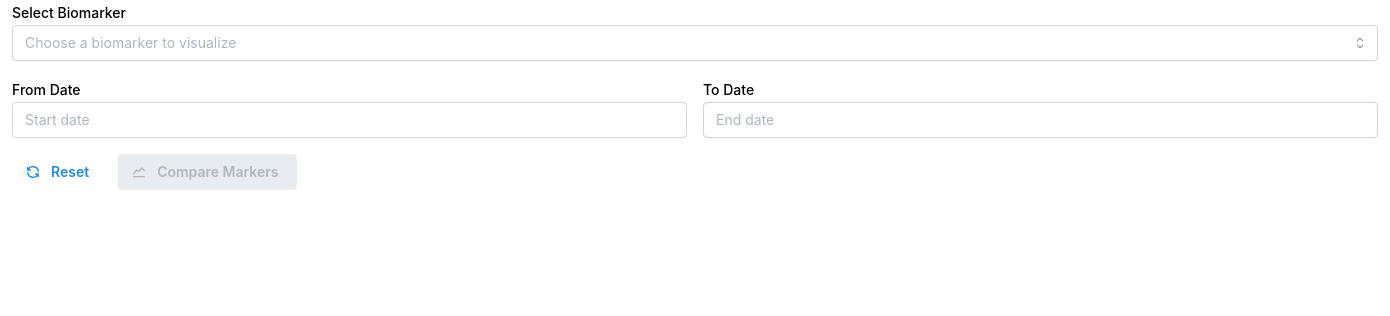
Test: TrendChartControls › Biomarker selection › shows data point count in biomarker label
The width and height of the screenshot is (1390, 316).
Click the field with placeholder "Choose a biomarker to visualize": (695, 43) [12,25,1378,61]
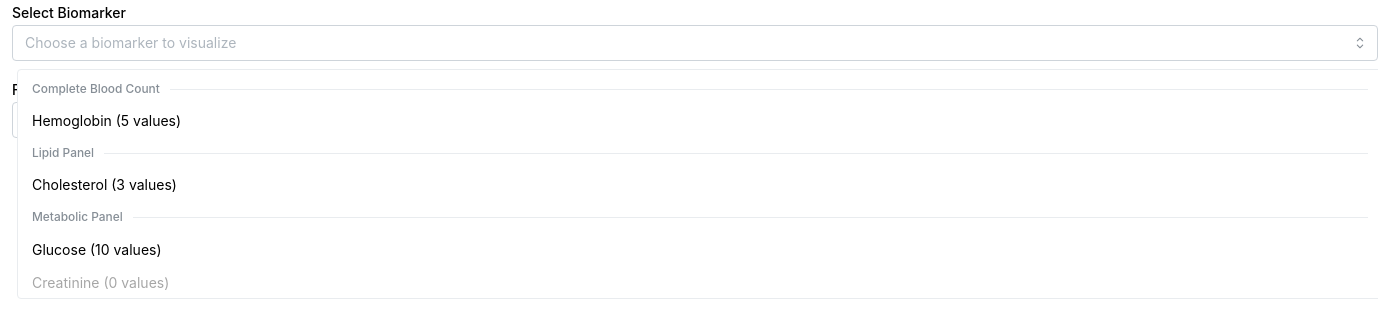
Now the text "Glucose (10 values)" is shown, box [32,238,162,260]
Now the text "Hemoglobin (5 values)" is shown, box [32,110,181,132]
